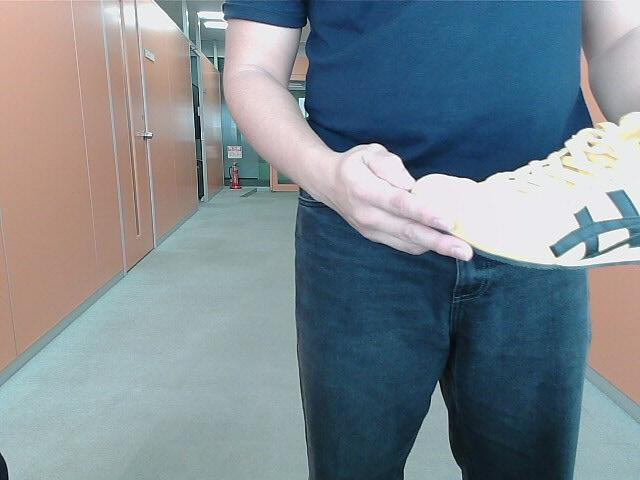Shoes: (406, 110, 640, 267)
